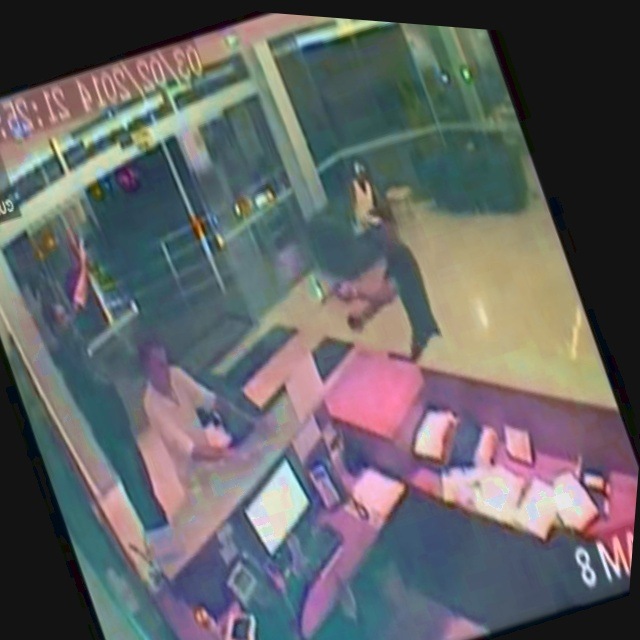gun: (308, 272, 353, 315)
